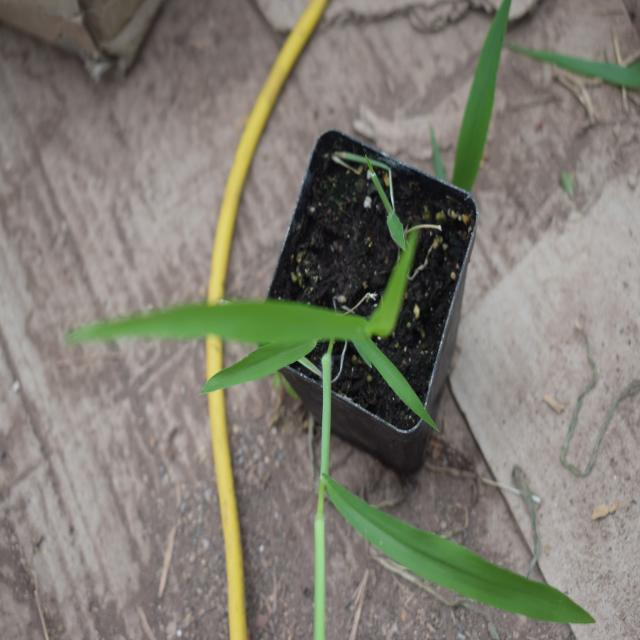crabgrass: (99, 236, 543, 618)
